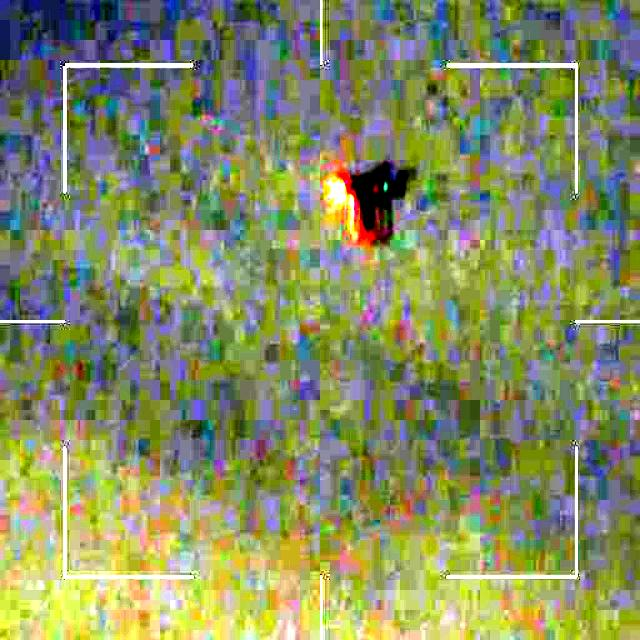bird: (321, 151, 410, 238)
